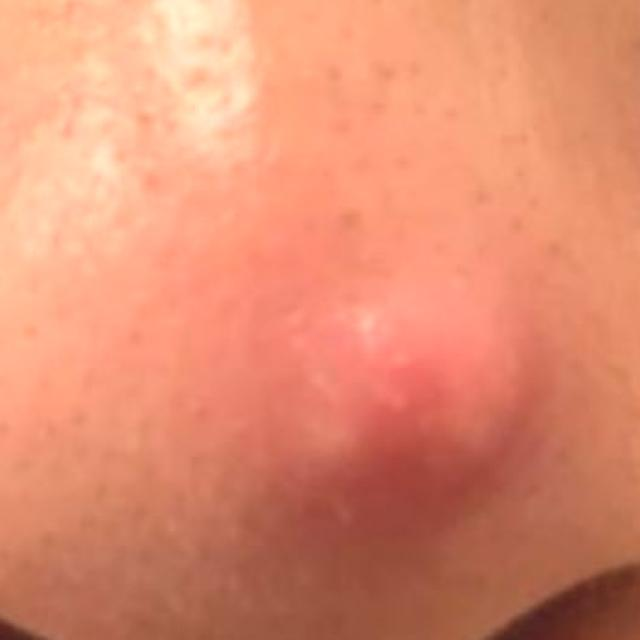nodule: (247, 278, 531, 538)
